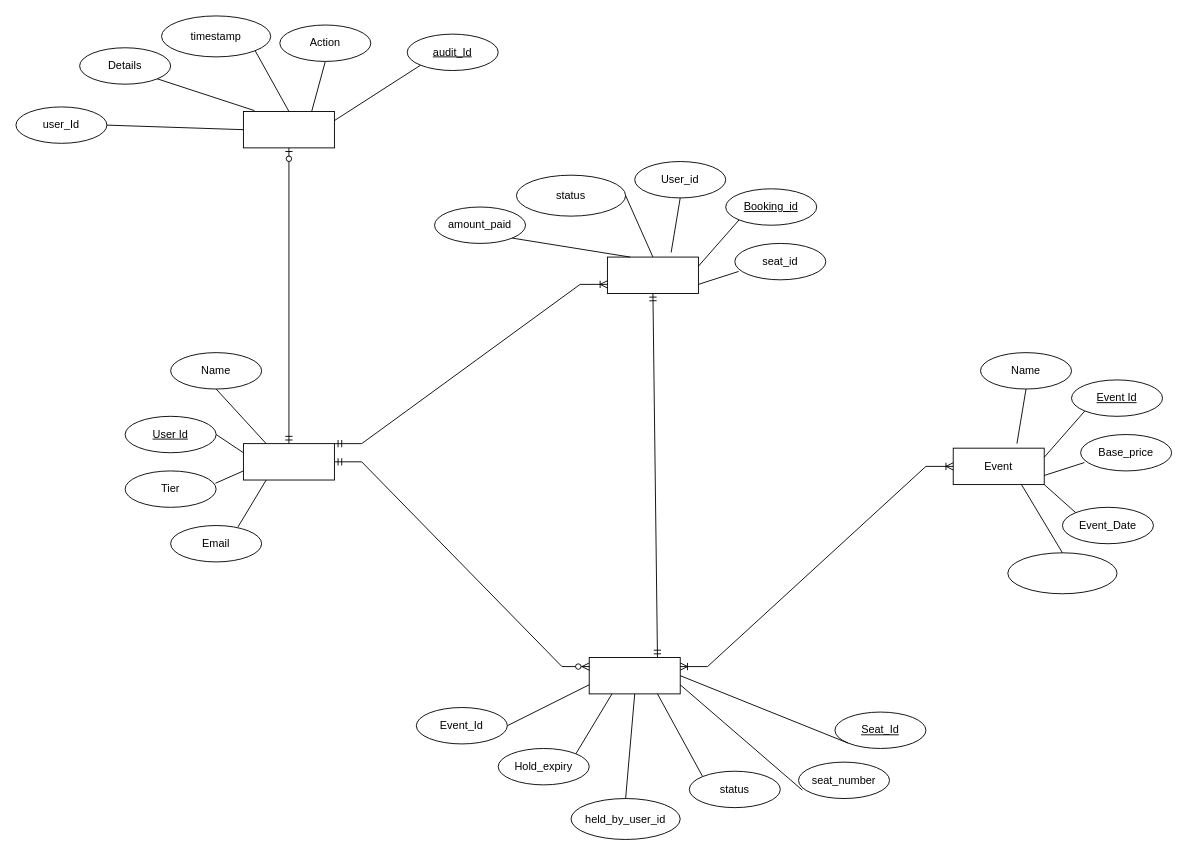
This 1188x855 diagram has some shape labels left out. The centre of each missing label's shape, as x and y in pixels:
AuditLogs: the point at 288,129
Booking: the point at 652,274
is_high_demand: the point at 1062,573
Seats: the point at 634,675
User: the point at 288,461
